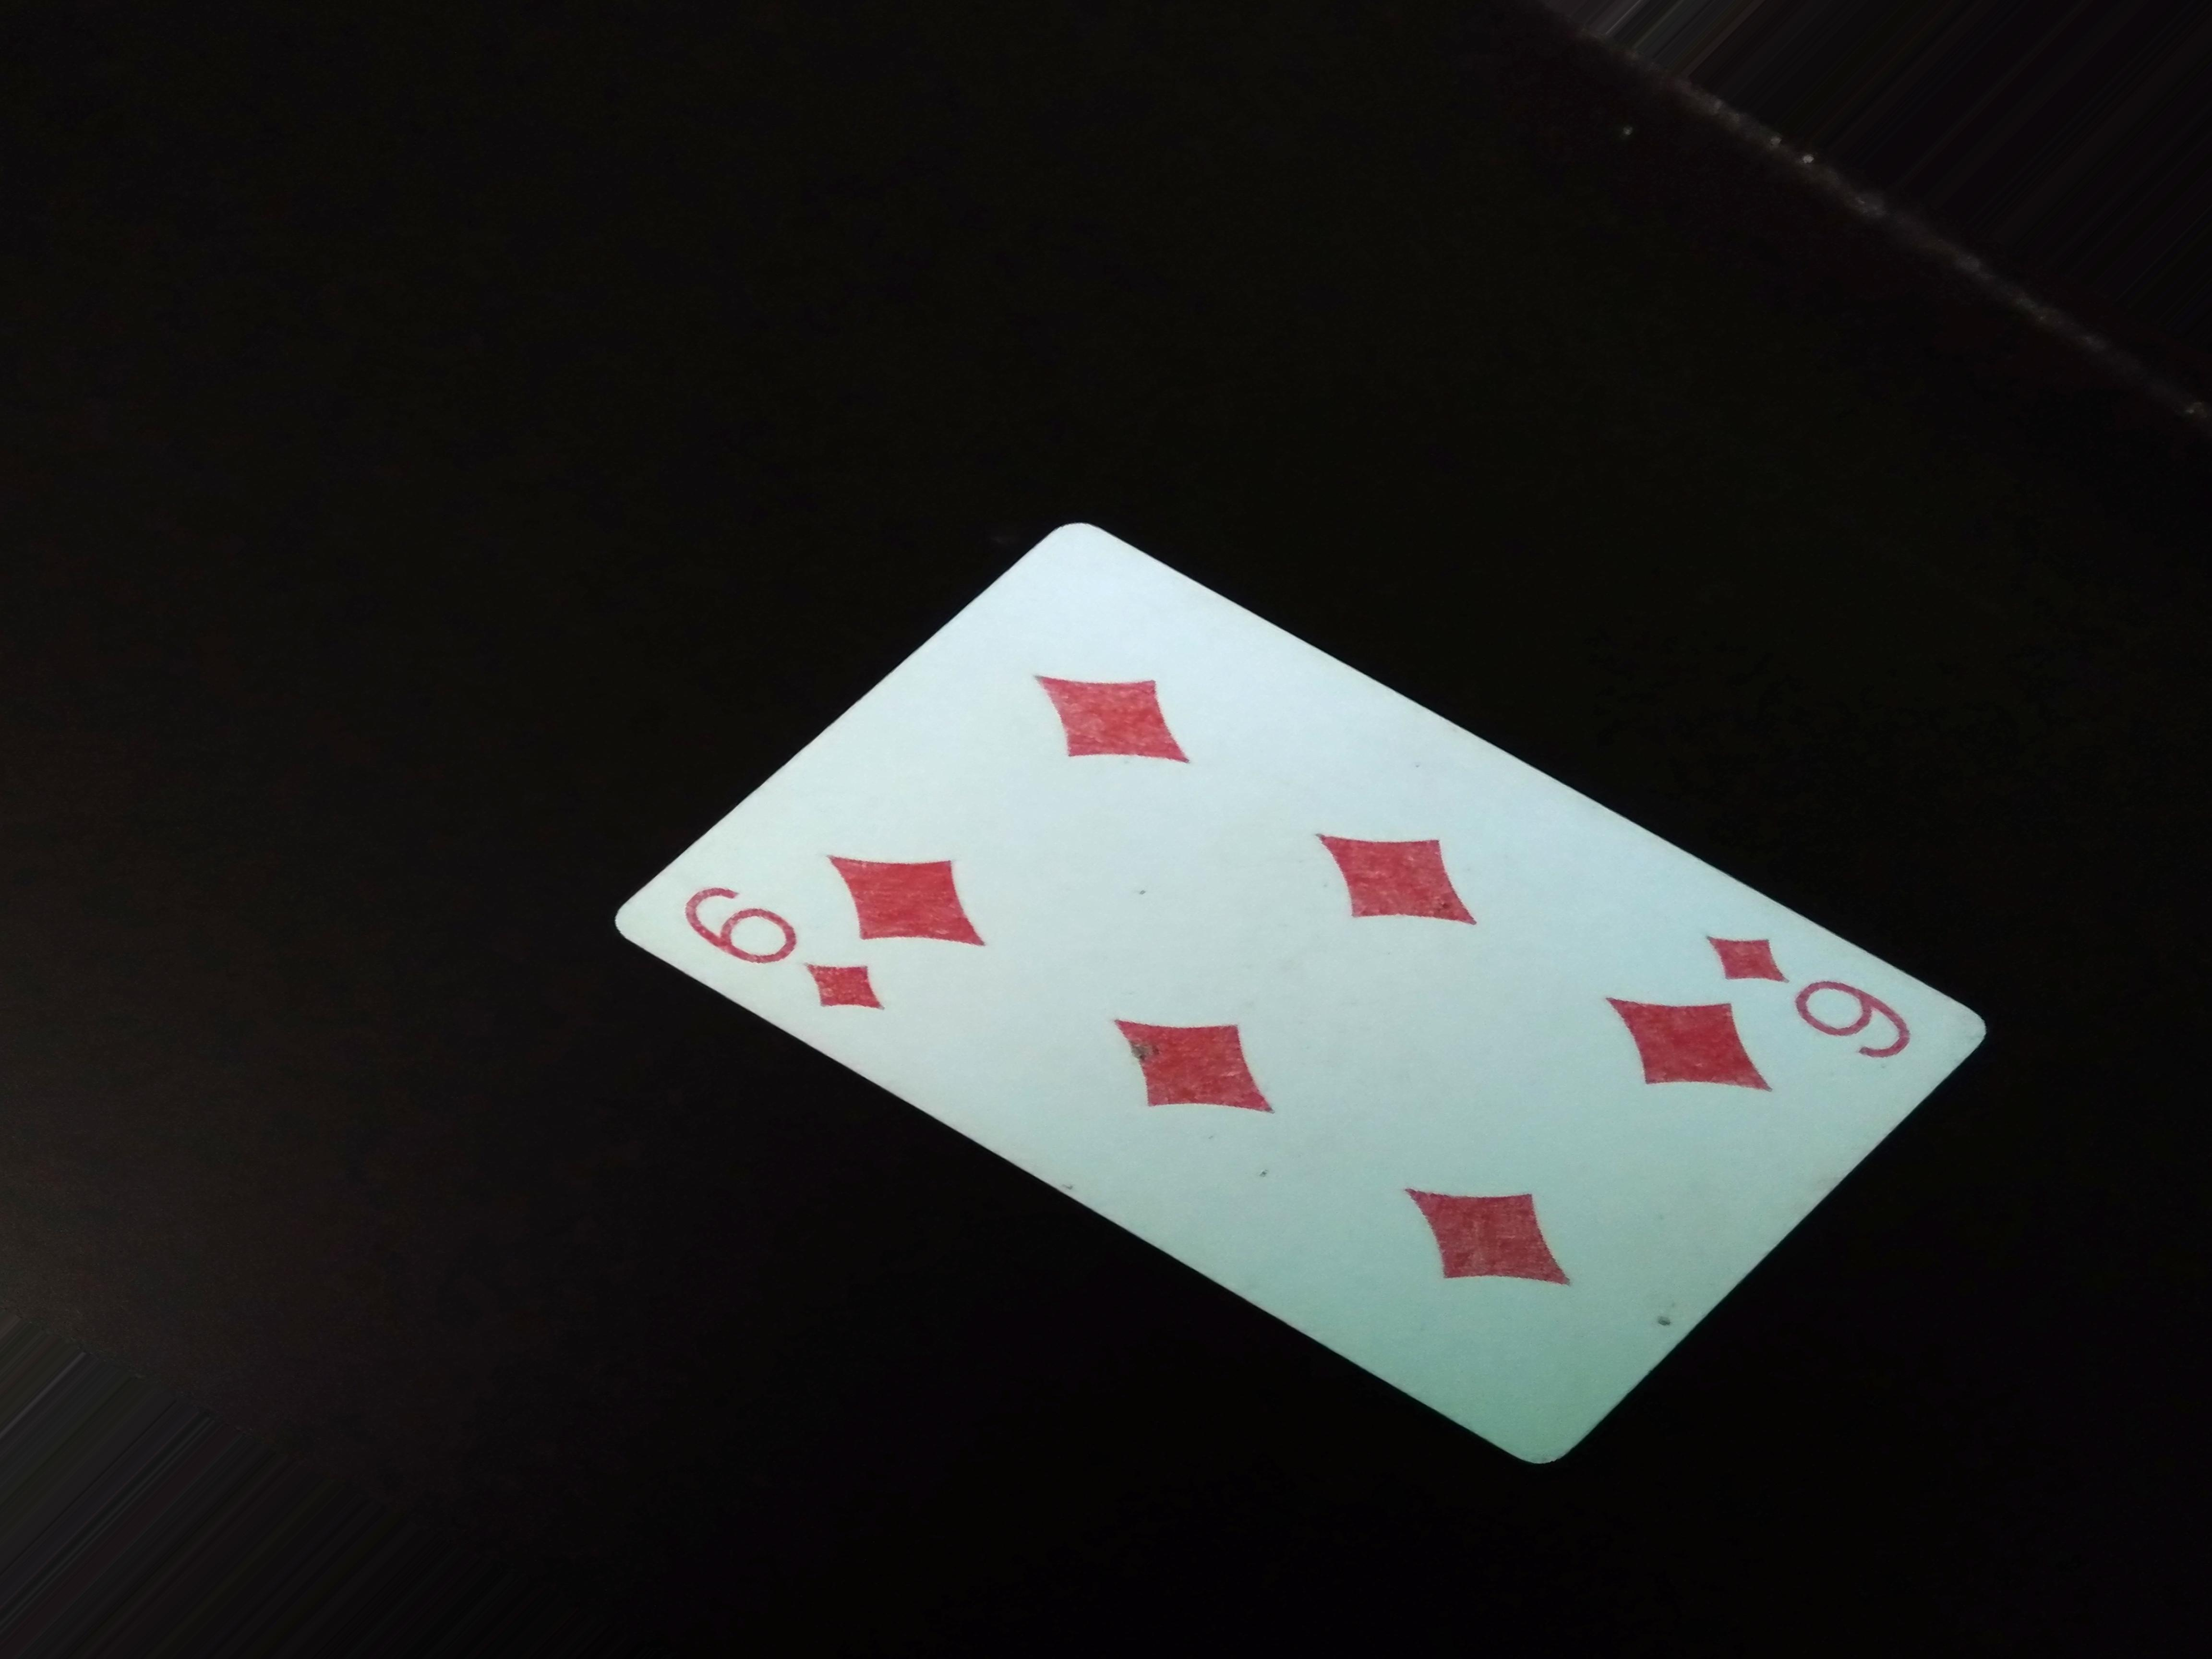6D: (678, 868, 890, 1070)
